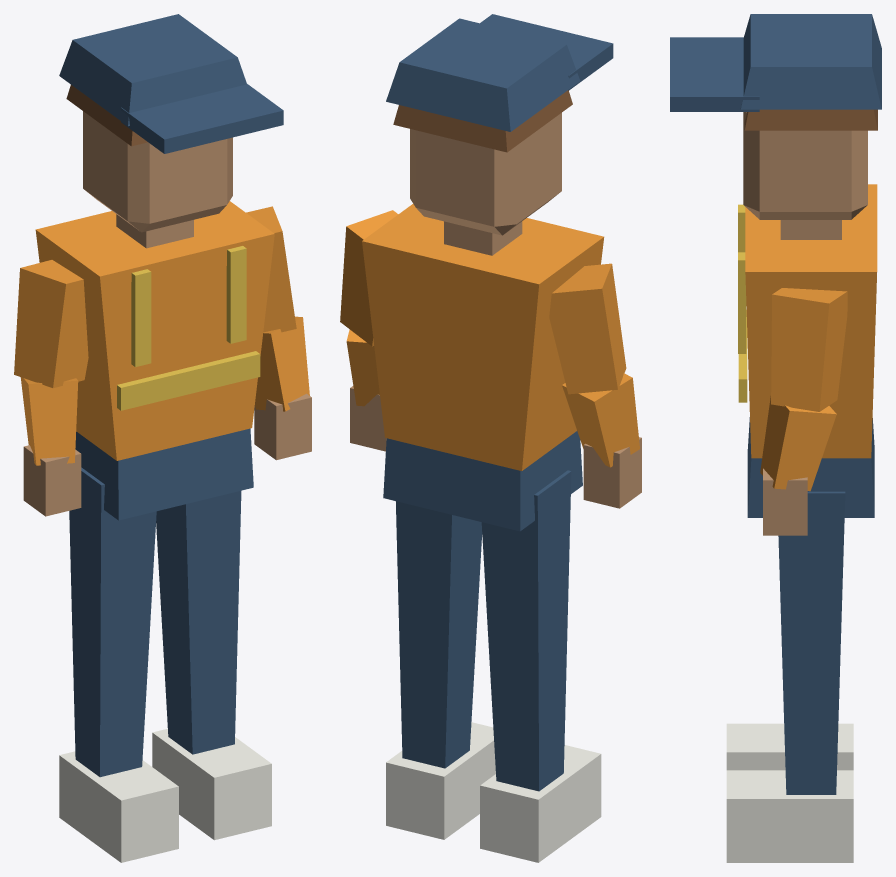
Rendered from Citizen_Male_03_Orange_Workwear.fbx.
3 views of the same model, side by side, from view 1: azimuth 30°, elevation 25°; view 2: azimuth 150°, elevation 25°; view 3: azimuth 270°, elevation 25° (orthographic). The views are drawn at different scales.
Visible parts, largest first — view 1: Citizen_Male_03_Orange_Workwear_Mesh; view 2: Citizen_Male_03_Orange_Workwear_Mesh; view 3: Citizen_Male_03_Orange_Workwear_Mesh.
Boxes of the visible parts, x1,y1,x2,y2 form: Citizen_Male_03_Orange_Workwear_Mesh: [14, 14, 311, 862]; Citizen_Male_03_Orange_Workwear_Mesh: [340, 14, 641, 862]; Citizen_Male_03_Orange_Workwear_Mesh: [670, 14, 881, 862].
Size of the model in its own units: 67.93 by 181 by 44.27.
